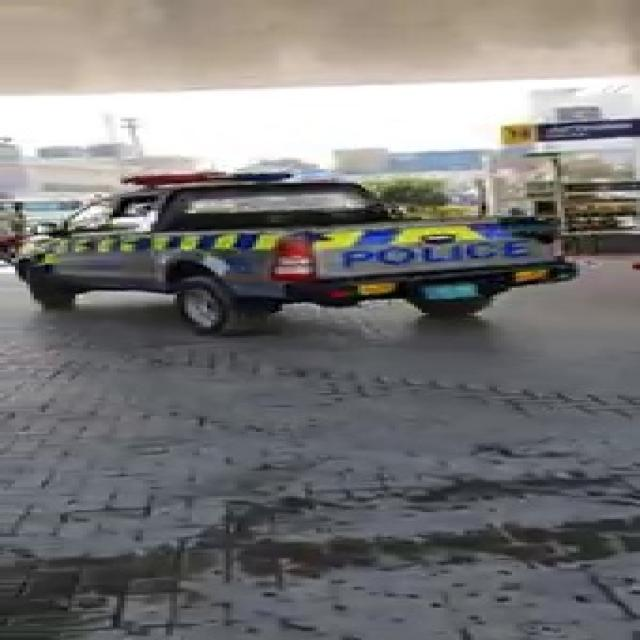police: (35, 180, 542, 332)
